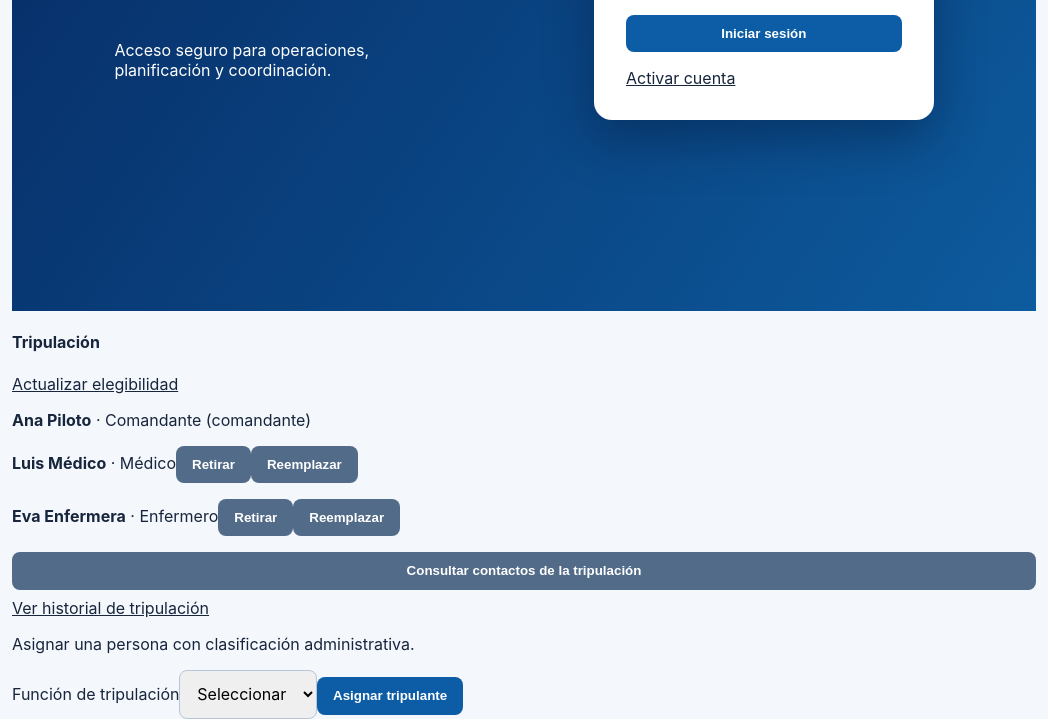
Scenario: una respuesta inválida no se muestra como contactos
This screenshot has width=1048, height=719.
(page scrolled)
Check: the text "Luis Médico" is shown, box 12,453 -> 106,473
Click the button "Consultar contactos de la tripulación".
click(524, 571)  # box 12,552 -> 1036,590
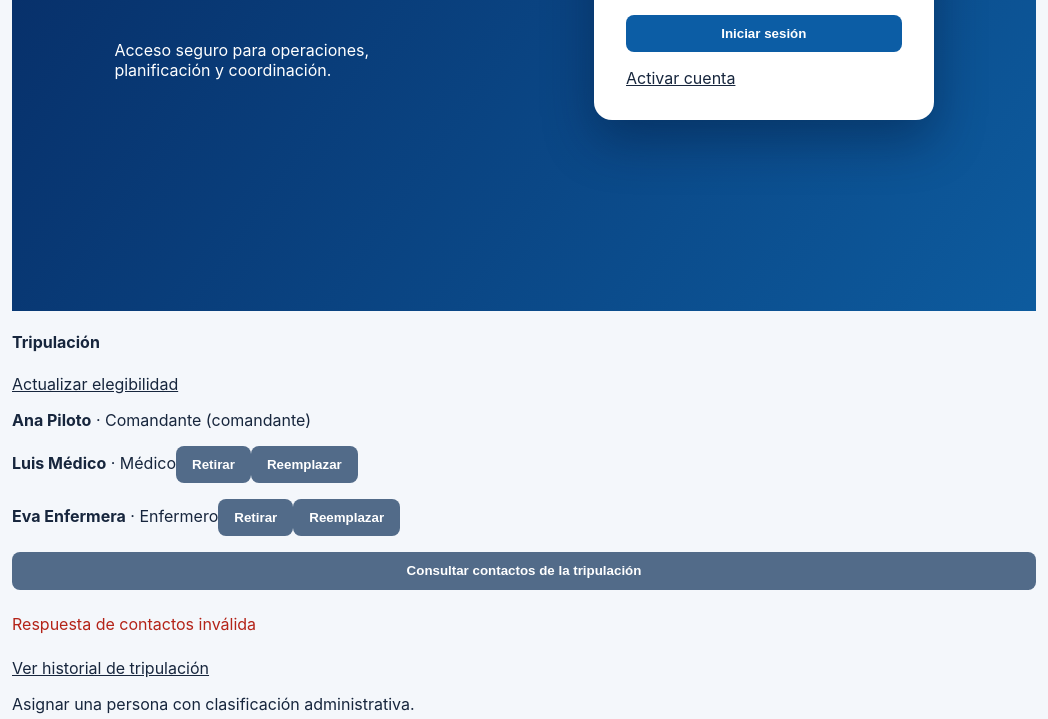
Check: the message reads "Respuesta de contactos inválida", box 12,614 -> 256,634
